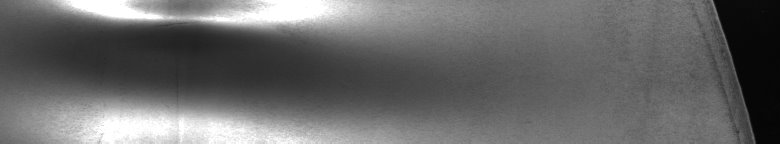ke: (30, 4, 336, 136)
